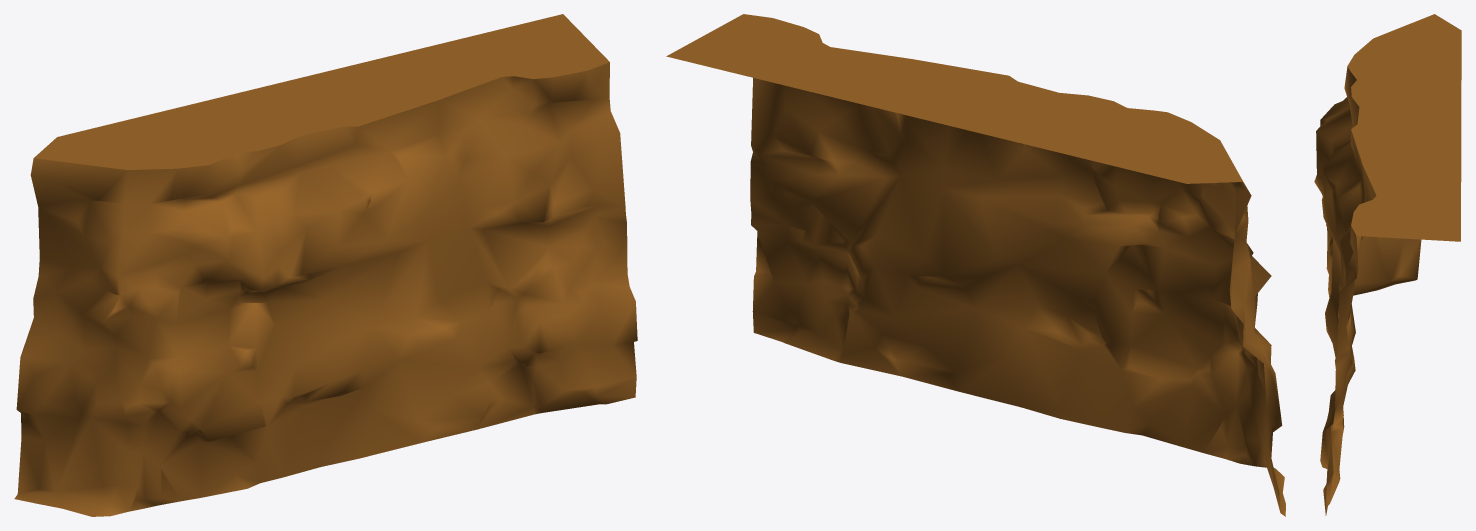
The model's file is Cliff_Wall05.FBX.
3 renders of one model, left to right at view 1: azimuth 30°, elevation 25°; view 2: azimuth 150°, elevation 25°; view 3: azimuth 270°, elevation 25°, orthographic. The views are drawn at different scales.
Parts seen in each view (by area): view 1: Cliff_Wall05; view 2: Cliff_Wall05; view 3: Cliff_Wall05.
Boxes of the visible parts, x1=… form: Cliff_Wall05: x1=14, y1=14, x2=637, y2=516; Cliff_Wall05: x1=666, y1=14, x2=1285, y2=516; Cliff_Wall05: x1=1314, y1=14, x2=1461, y2=515.
Bounding box in the file's own units: 3117 × 1690 × 807.
